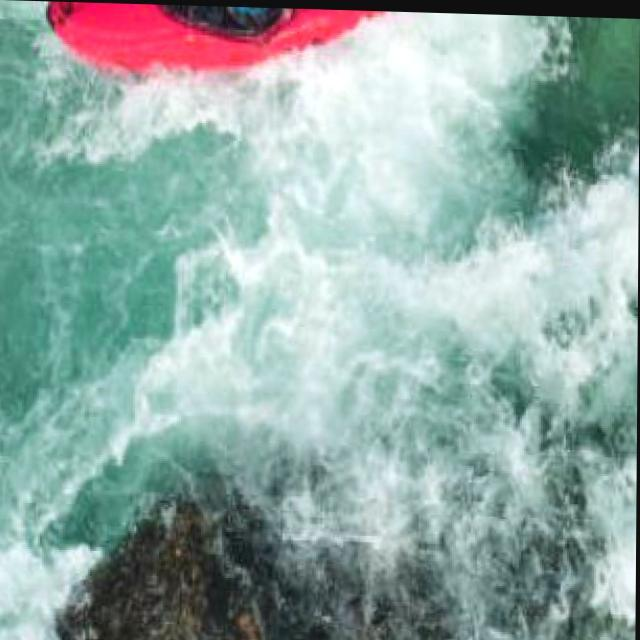kayak: (50, 1, 384, 68)
